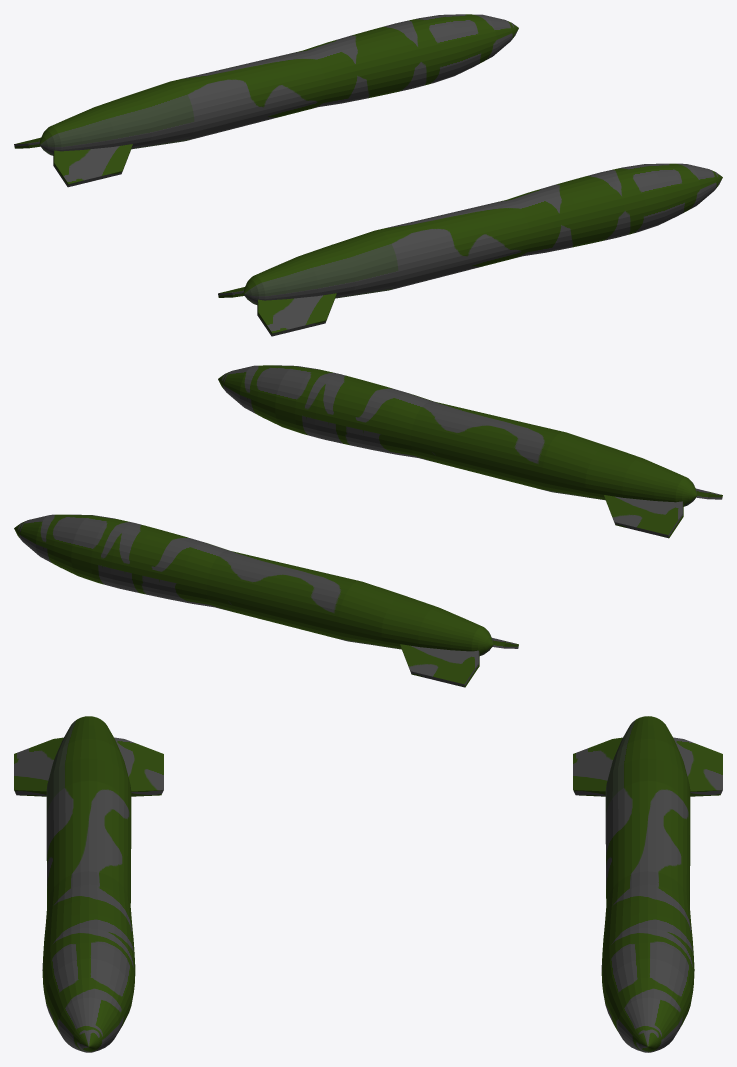
3 renders of one model, top to bottom at view 1: azimuth 30°, elevation 25°; view 2: azimuth 150°, elevation 25°; view 3: azimuth 270°, elevation 25°, orthographic. The views are drawn at different scales.
Visible parts, largest first — view 1: 立方体.001, 立方体.002; view 2: 立方体.002, 立方体.001; view 3: 立方体.002, 立方体.001.
Part boxes in pixels (left/top/right/bottom): 立方体.001: left=14, top=14, right=518, bottom=187; 立方体.002: left=218, top=163, right=722, bottom=336; 立方体.002: left=218, top=365, right=722, bottom=538; 立方体.001: left=14, top=514, right=518, bottom=687; 立方体.002: left=14, top=716, right=163, bottom=1052; 立方体.001: left=573, top=716, right=722, bottom=1052.
Size of the model in its own units: 5.88 by 0.7209 by 5.5.
1 material, 1 textured.
